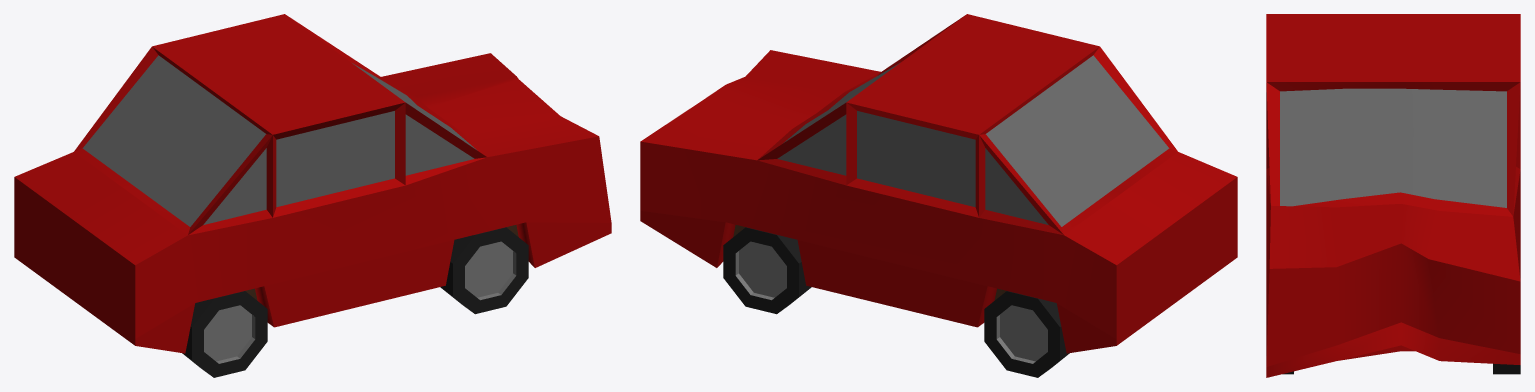
The model's file is mercedes_GLA.fbx.
3 views of the same model, side by side, from view 1: azimuth 30°, elevation 25°; view 2: azimuth 150°, elevation 25°; view 3: azimuth 270°, elevation 25° (orthographic). The views are drawn at different scales.
Parts seen in each view (by area): view 1: car; view 2: car; view 3: car.
Part boxes in pixels (<box>): car: <box>14,14,611,377</box>; car: <box>640,14,1237,377</box>; car: <box>1266,14,1520,377</box>.
Bounding box in the file's own units: 348 × 160 × 153.
